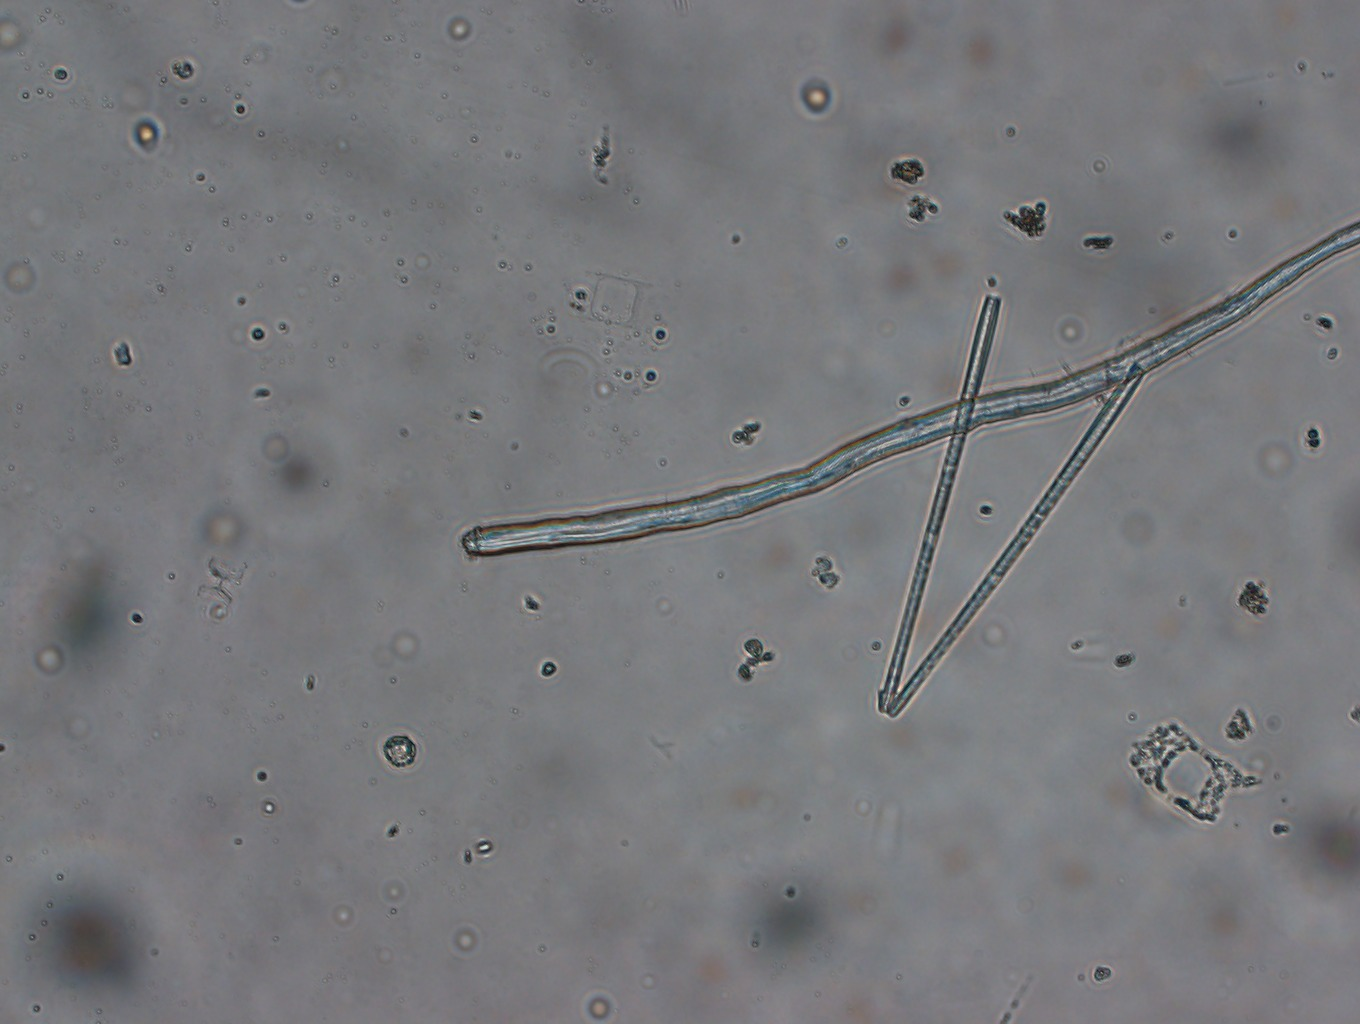thalassionema frauenfeldii: (875, 289, 1153, 725)
